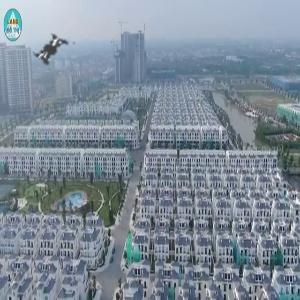drone: (9, 7, 100, 98)
